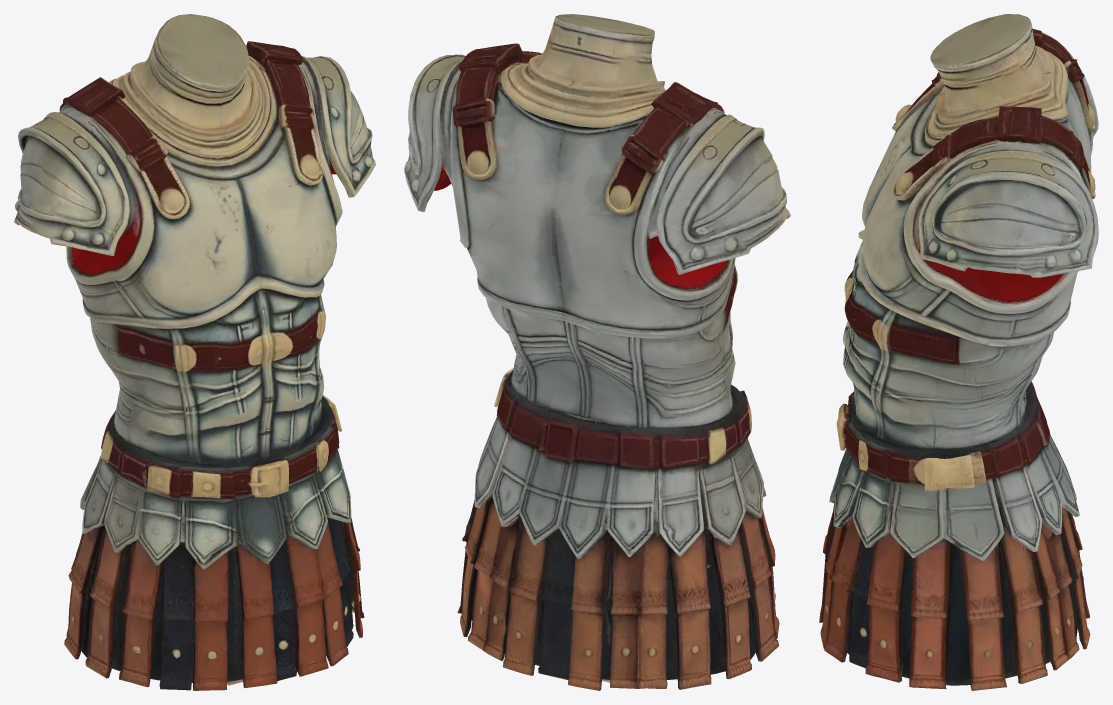
File: lorica_musculata.glb
3 renders of one model, left to right at view 1: azimuth 30°, elevation 25°; view 2: azimuth 150°, elevation 25°; view 3: azimuth 270°, elevation 25°, orthographic. The views are drawn at different scales.
Size of the model in its own units: 1.09 by 1.9 by 0.7615.
Materials: 1 (1 with a texture image).
